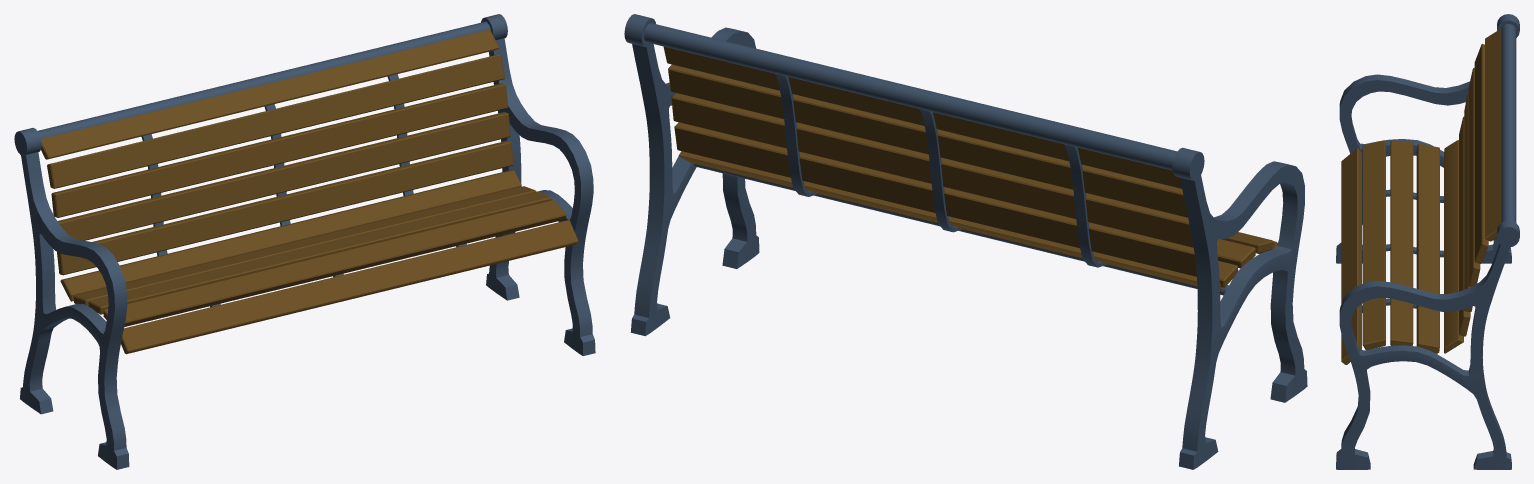
Rendered from Parkbank.fbx.
3 renders of one model, left to right at view 1: azimuth 30°, elevation 25°; view 2: azimuth 150°, elevation 25°; view 3: azimuth 270°, elevation 25°, orthographic. The views are drawn at different scales.
Visible parts, largest first — view 1: Holzbank; view 2: Holzbank; view 3: Holzbank.
Part boxes in pixels (left/top/right/bottom): Holzbank: left=14, top=14, right=595, bottom=469; Holzbank: left=624, top=14, right=1307, bottom=469; Holzbank: left=1336, top=14, right=1519, bottom=469.
Bounding box in the file's own units: 160 × 85.26 × 58.35.
